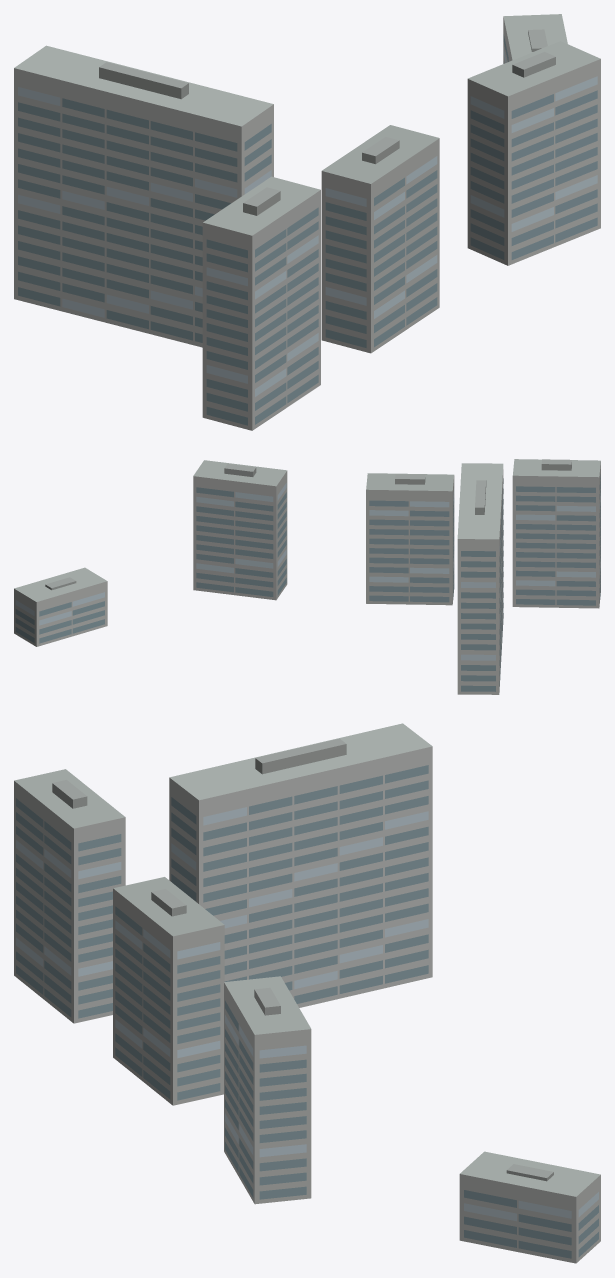
File: apt-a13309101.glb
3 renders of one model, top to bottom at view 1: azimuth 30°, elevation 25°; view 2: azimuth 150°, elevation 25°; view 3: azimuth 270°, elevation 25°, orthographic. The views are drawn at different scales.
Parts seen in each view (by area): view 1: apt-a13309101; view 2: apt-a13309101; view 3: apt-a13309101.
Part boxes in pixels (left/top/right/bottom): apt-a13309101: left=14, top=14, right=600, bottom=430; apt-a13309101: left=14, top=459, right=600, bottom=694; apt-a13309101: left=14, top=723, right=600, bottom=1263.
Size of the model in its own units: 123 by 45 by 99.02.
